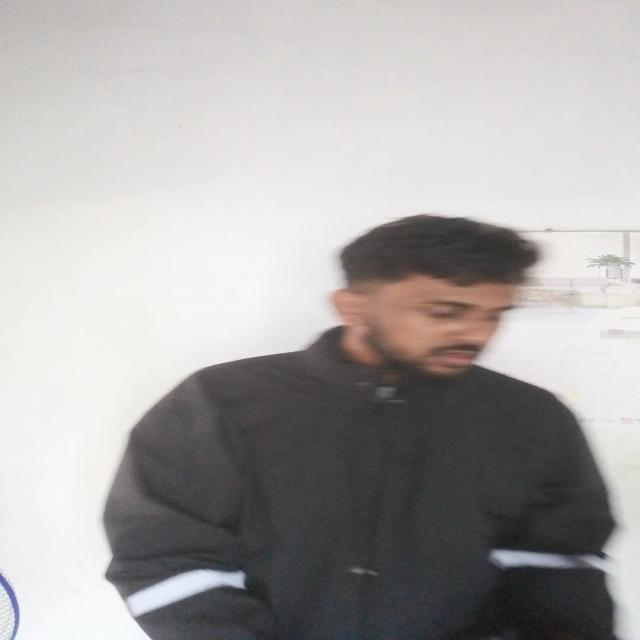Jacket_Wearer: (65, 316, 627, 640)
Person: (132, 214, 618, 640)
